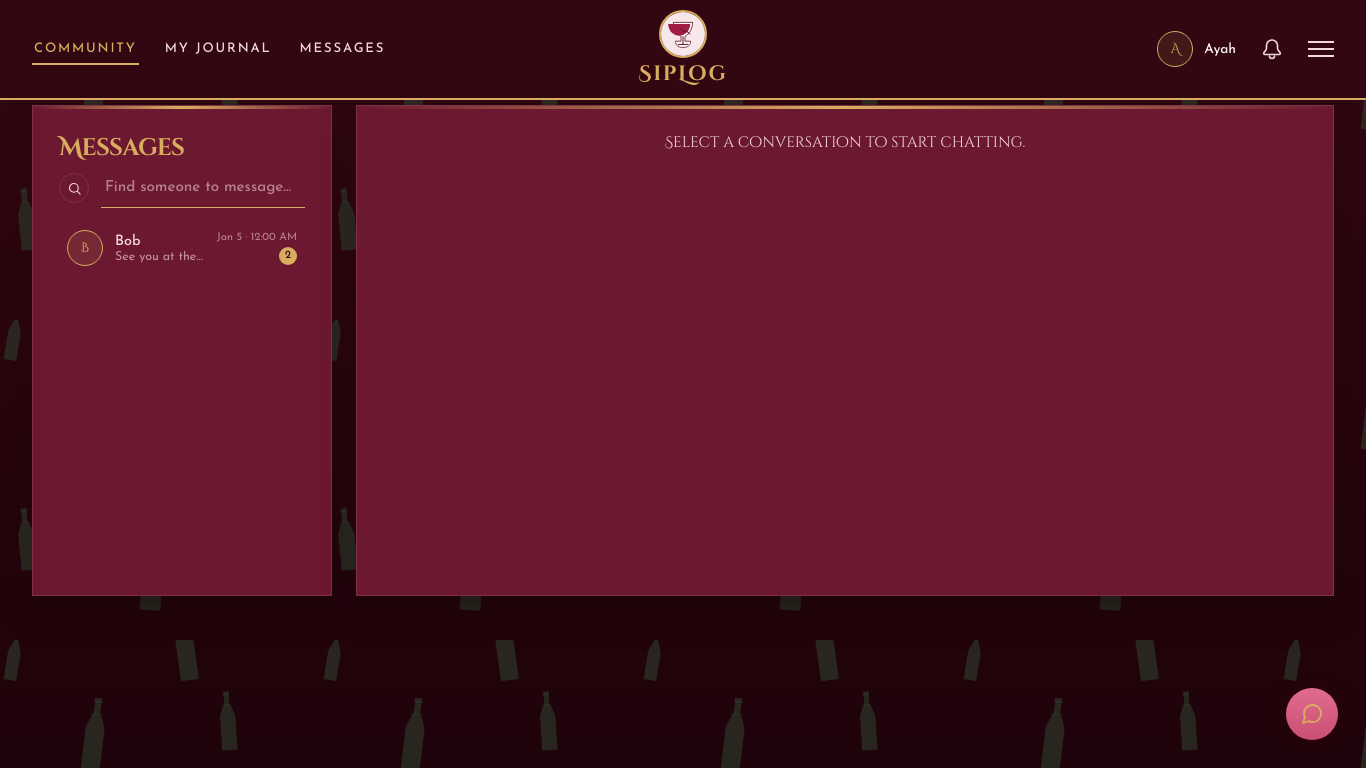
Test case: ChatPage thread › opens a conversation and shows its messages
The image size is (1366, 768).
Click the text "Bob": (128, 241) [115, 234, 140, 248]
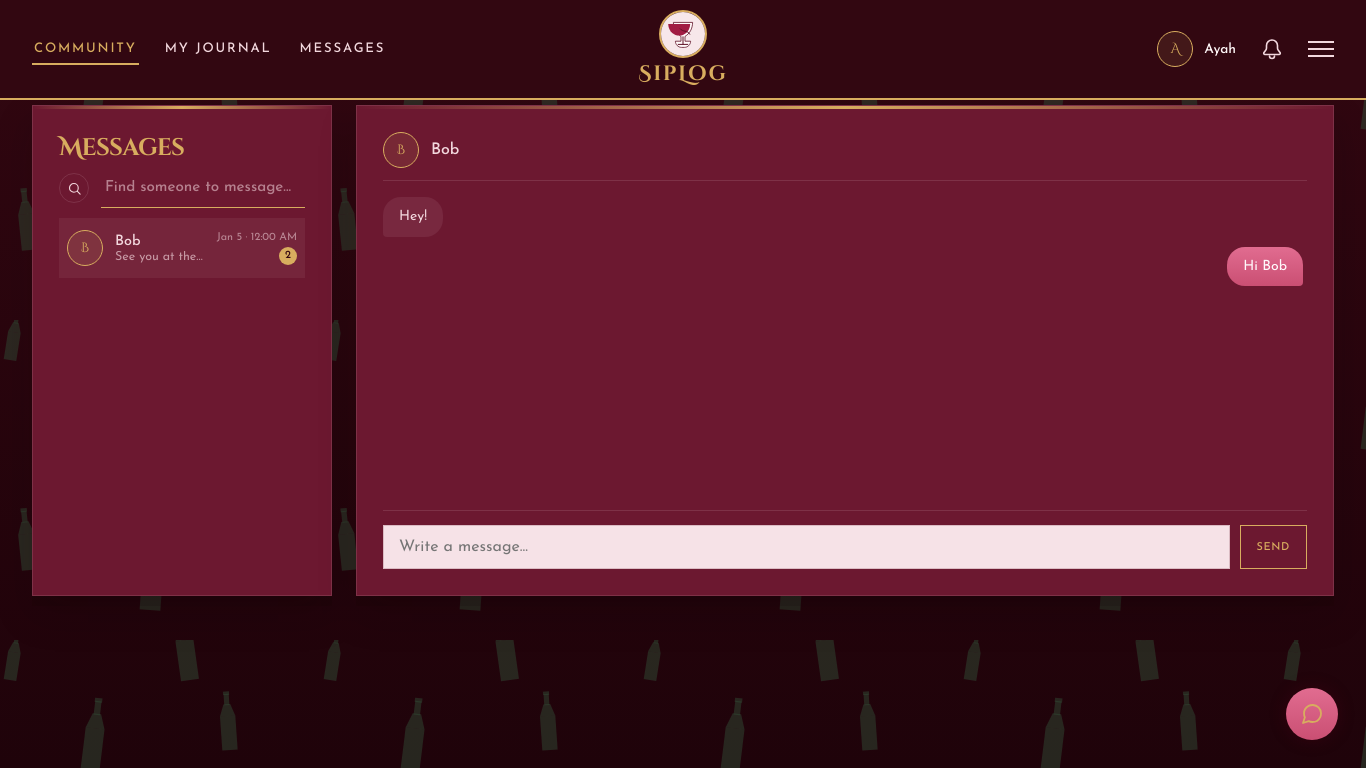
Expected: the text "Hey!" is shown, [399, 207, 427, 227]
Expected: the text "Hi Bob" is shown, [1243, 257, 1287, 276]
